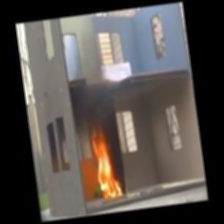fire: (81, 121, 129, 202)
